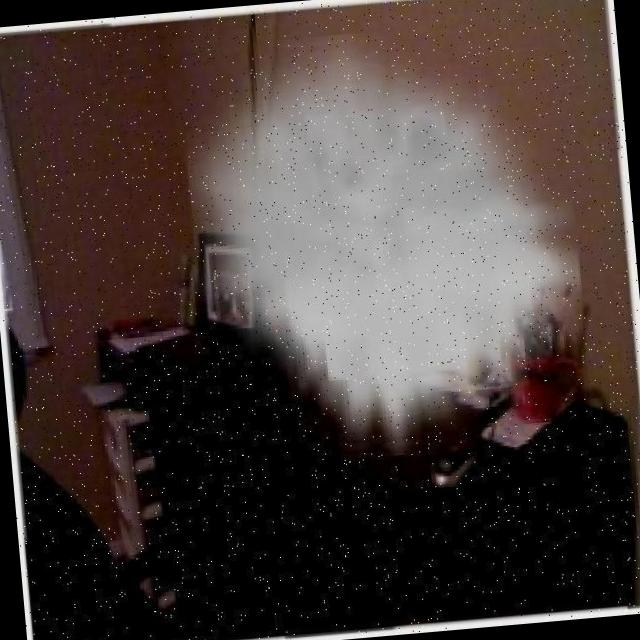Smoke: (190, 50, 610, 461)
